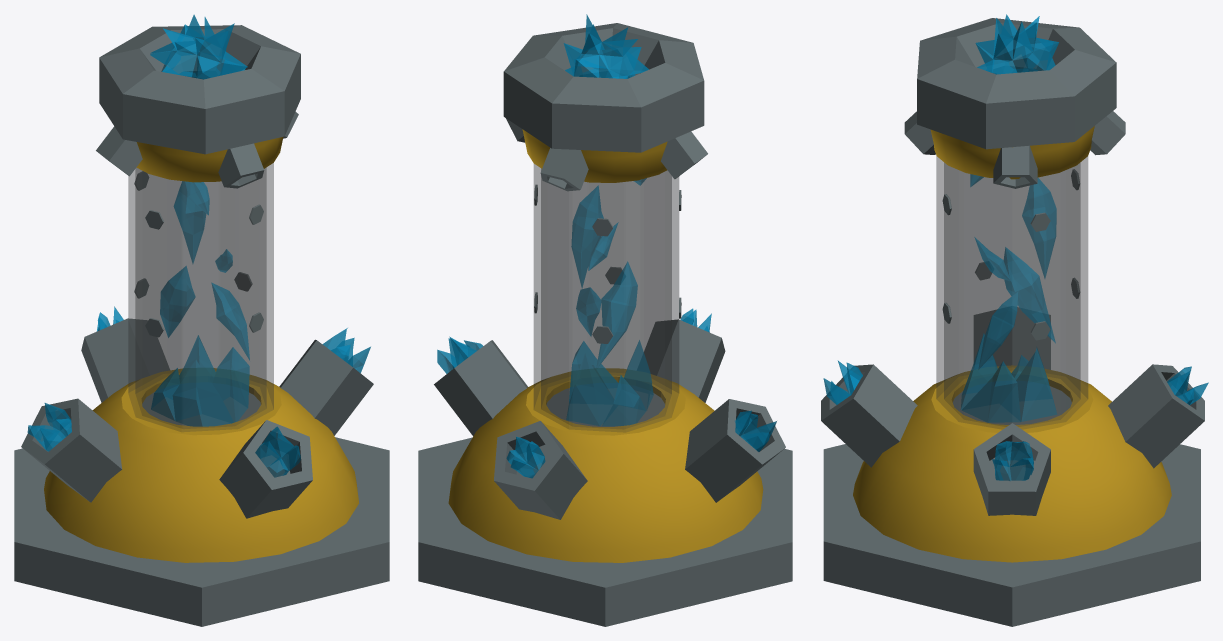
File: Cystal_Bong_tower 1.fbx
The picture shows the model from 3 angles, left to right: view 1: azimuth 30°, elevation 25°; view 2: azimuth 150°, elevation 25°; view 3: azimuth 270°, elevation 25°; orthographic projection.
Parts seen in each view (by area): view 1: Crystal_Slow_tower; view 2: Crystal_Slow_tower; view 3: Crystal_Slow_tower.
Part boxes in pixels (x1,y1,x2,y2): Crystal_Slow_tower: (14,14,389,626); Crystal_Slow_tower: (418,14,792,626); Crystal_Slow_tower: (821,14,1208,626).
Bounding box in the file's own units: 299 × 392 × 266.
